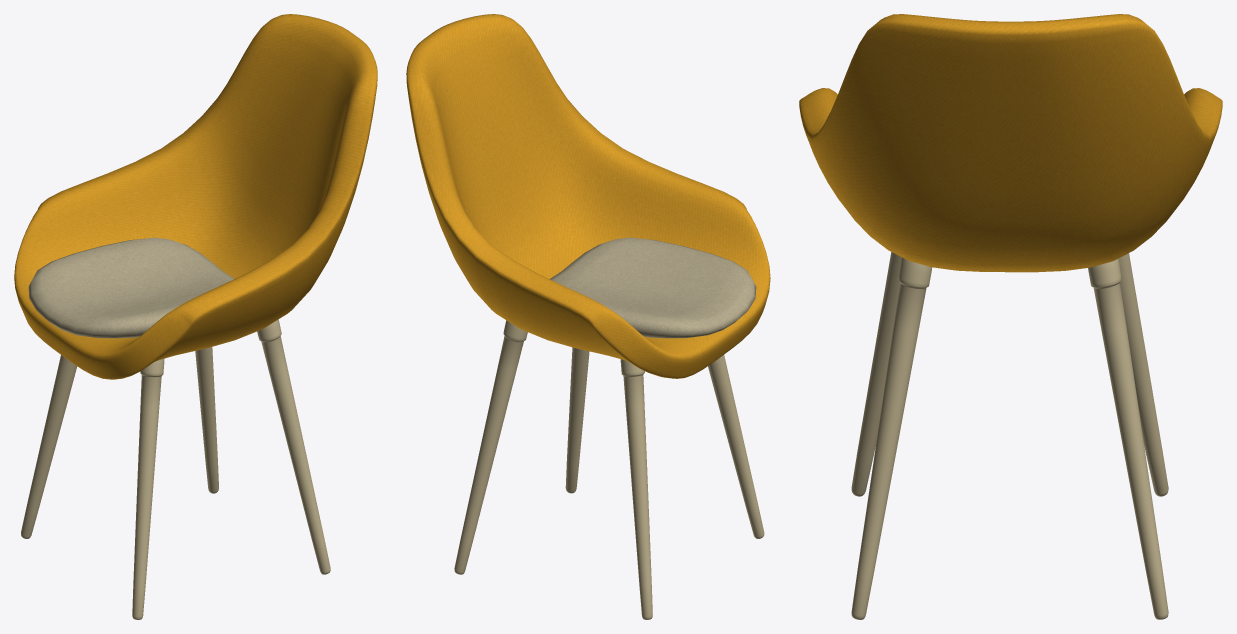
Rendered from cushioned_chair.glb.
3 views of the same model, side by side, from view 1: azimuth 30°, elevation 25°; view 2: azimuth 150°, elevation 25°; view 3: azimuth 270°, elevation 25° (orthographic). The views are drawn at different scales.
Visible parts, largest first — view 1: Plane004, Box001, Cylinder004, Cylinder002, Cylinder001, Cylinder003; view 2: Plane004, Box001, Cylinder003, Cylinder001, Cylinder002, Cylinder004; view 3: Plane004, Cylinder004, Cylinder003, Cylinder002, Cylinder001.
Part boxes in pixels (x1=…): Plane004: x1=14, y1=14, x2=377, y2=379; Box001: x1=28, y1=237, x2=234, y2=338; Cylinder004: x1=257, y1=319, x2=330, y2=574; Cylinder002: x1=132, y1=358, x2=164, y2=619; Cylinder001: x1=21, y1=355, x2=77, y2=538; Cylinder003: x1=195, y1=347, x2=218, y2=493; Plane004: x1=406, y1=14, x2=770, y2=378; Box001: x1=550, y1=237, x2=756, y2=338; Cylinder003: x1=454, y1=320, x2=527, y2=574; Cylinder001: x1=620, y1=359, x2=652, y2=619; Cylinder002: x1=708, y1=355, x2=764, y2=538; Cylinder004: x1=565, y1=347, x2=589, y2=493; Plane004: x1=799, y1=14, x2=1222, y2=272; Cylinder004: x1=851, y1=257, x2=932, y2=619; Cylinder003: x1=1088, y1=258, x2=1168, y2=619; Cylinder002: x1=851, y1=252, x2=901, y2=496; Cylinder001: x1=1118, y1=253, x2=1168, y2=496.
Bounding box in the file's own units: 23.8 × 35.11 × 20.76.
Materials: 3 (2 with a texture image).
